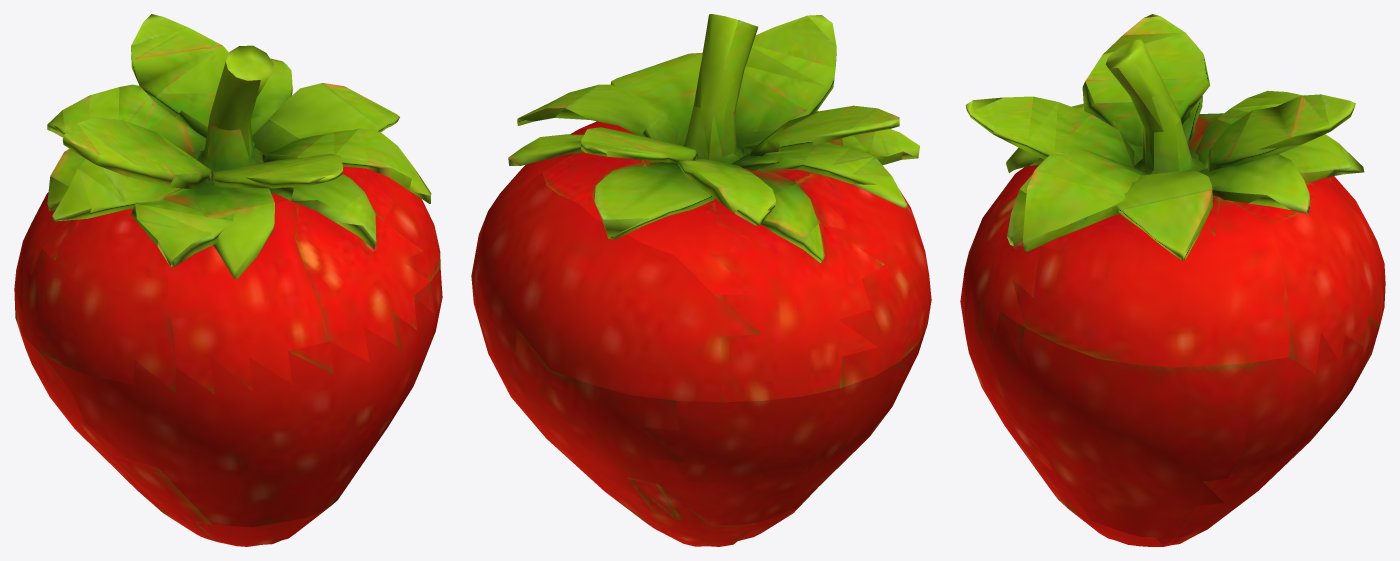
File: strawberry.glb
3 renders of one model, left to right at view 1: azimuth 30°, elevation 25°; view 2: azimuth 150°, elevation 25°; view 3: azimuth 270°, elevation 25°, orthographic. The views are drawn at different scales.
Size of the model in its own units: 0.7988 by 1 by 0.7852.
1 material, 1 textured.
